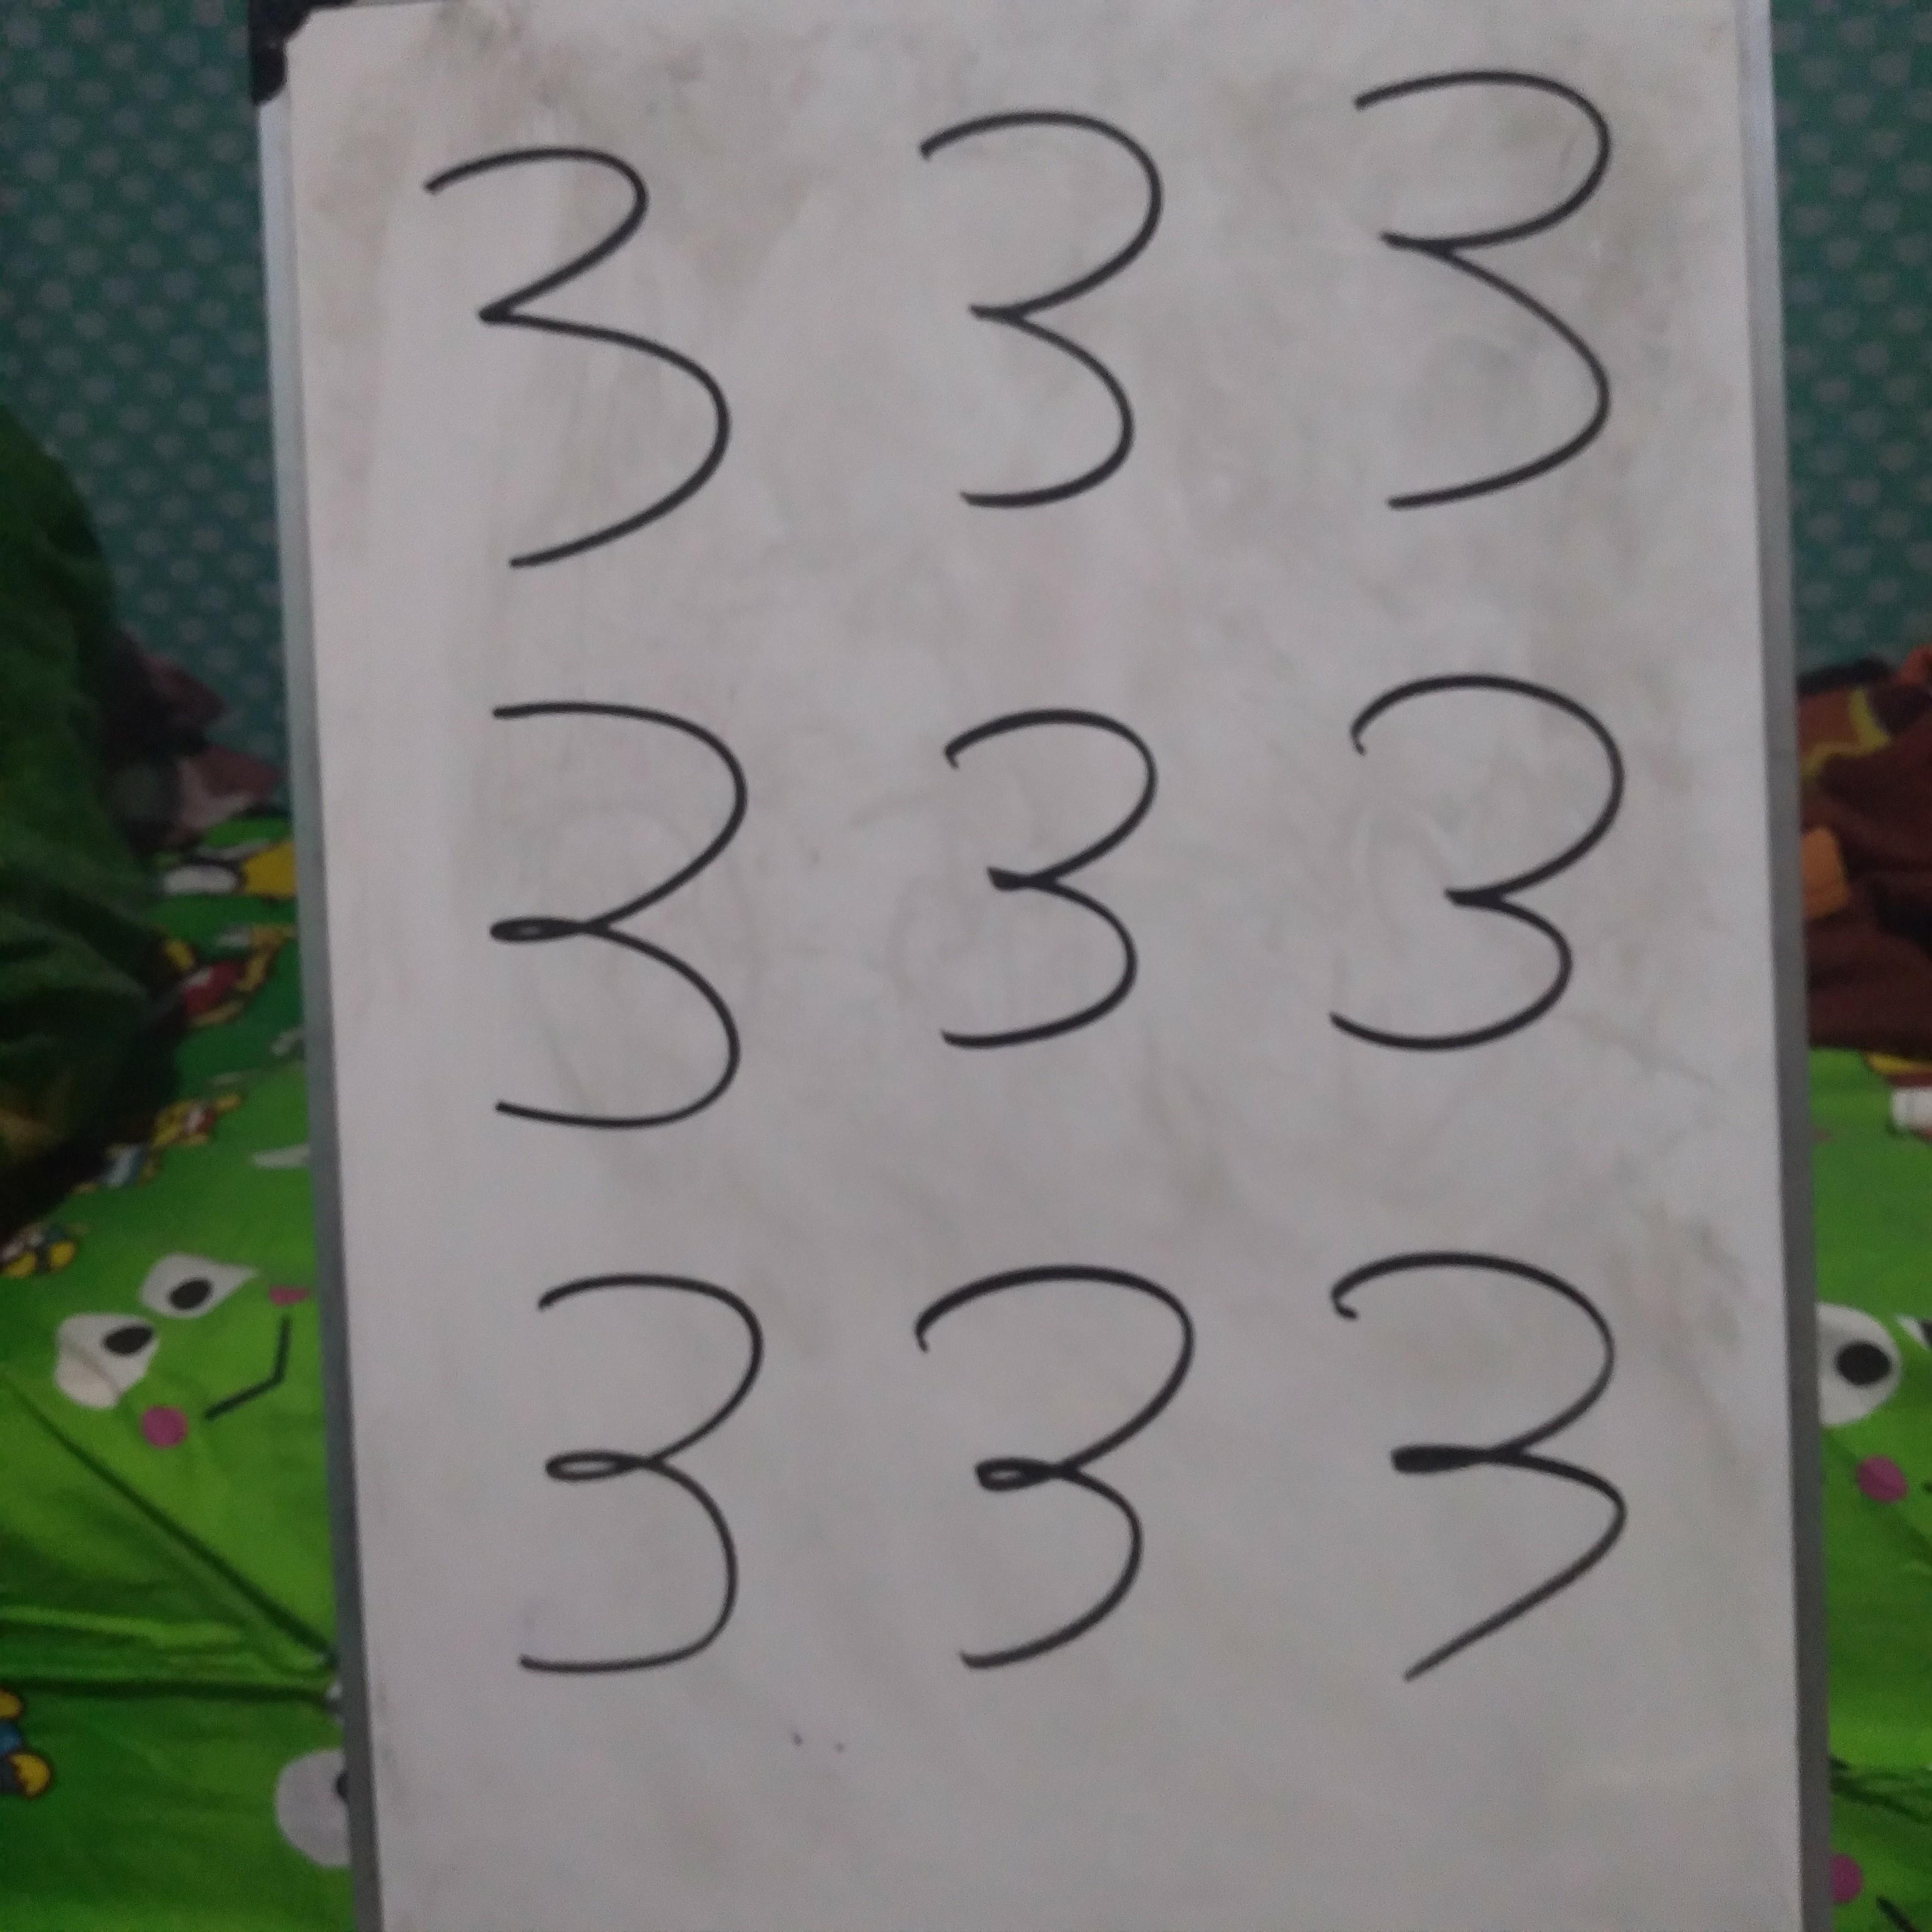num3: (846, 75, 1219, 563), (1291, 51, 1664, 539), (1306, 607, 1679, 1095), (1304, 1221, 1678, 1709), (864, 651, 1238, 1139), (427, 671, 800, 1159), (468, 1223, 841, 1711), (414, 132, 787, 620), (873, 1222, 1247, 1710)
